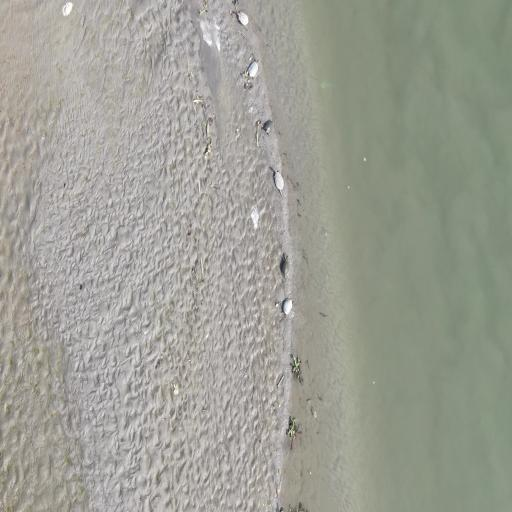turtle: (272, 167, 285, 194), (248, 55, 262, 78), (263, 115, 277, 136), (282, 295, 296, 315), (236, 8, 250, 27), (282, 253, 291, 280)
